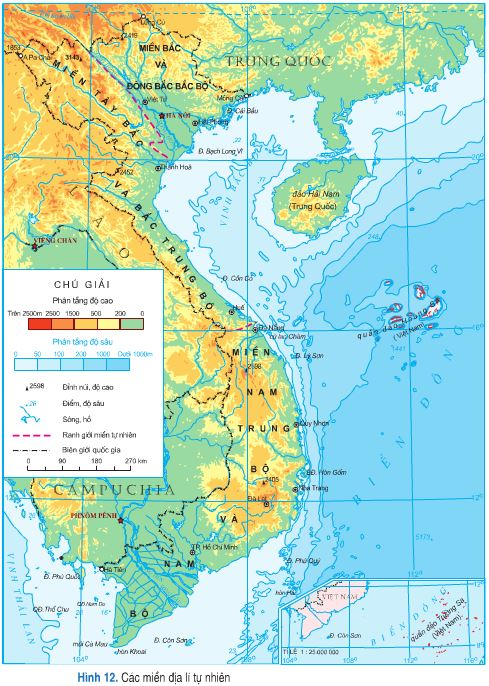Island: (355, 271, 443, 349), (408, 596, 482, 657)
